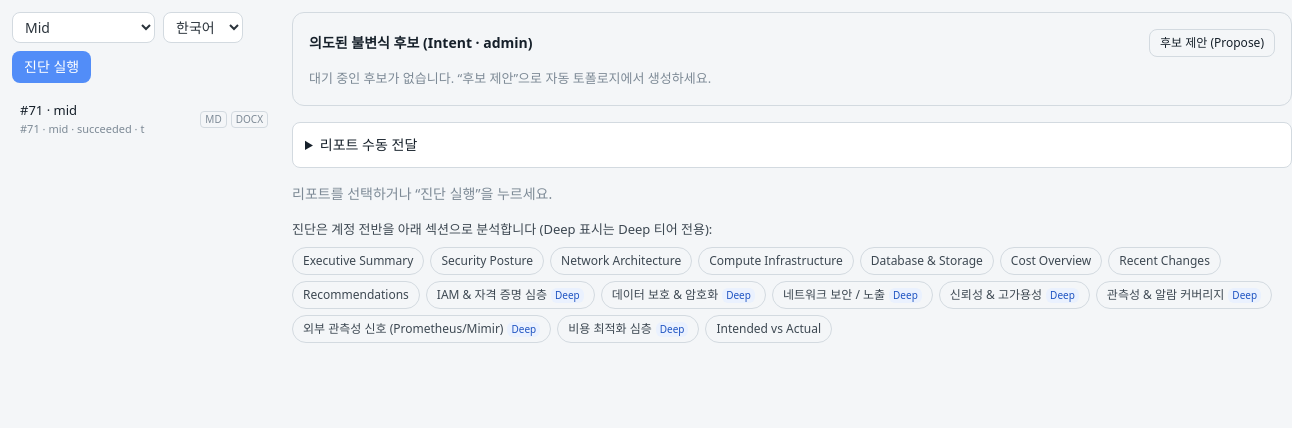
DiagnosisView — invariant assessment coverage › distinguishes no active invariants from an evaluated pass
The width and height of the screenshot is (1292, 428).
Click the button "#71 · mid #71 · mid · succeeded · t": (104, 119) [12, 95, 196, 143]
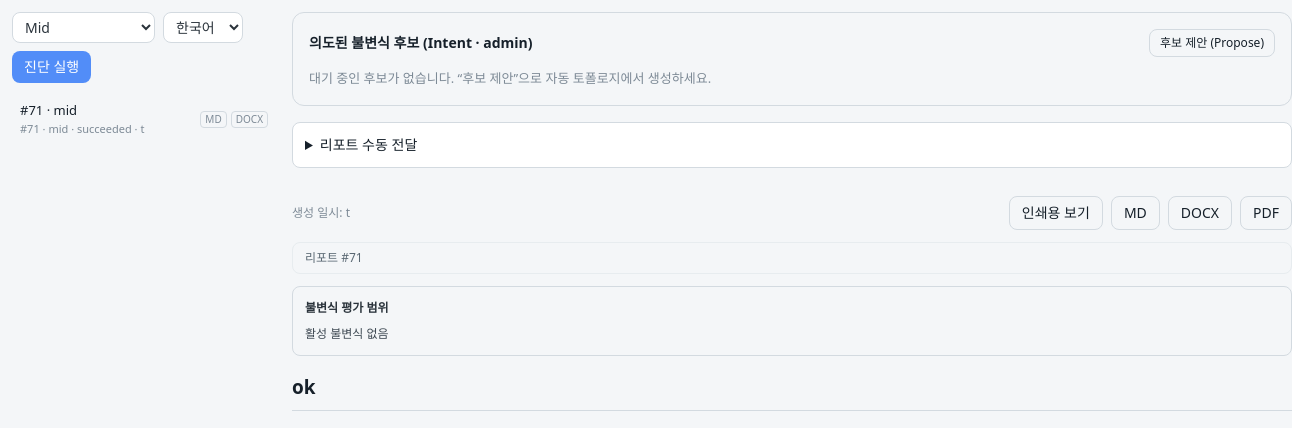
expect the text "활성 불변식 없음" is shown: met, box [305, 324, 388, 342]
